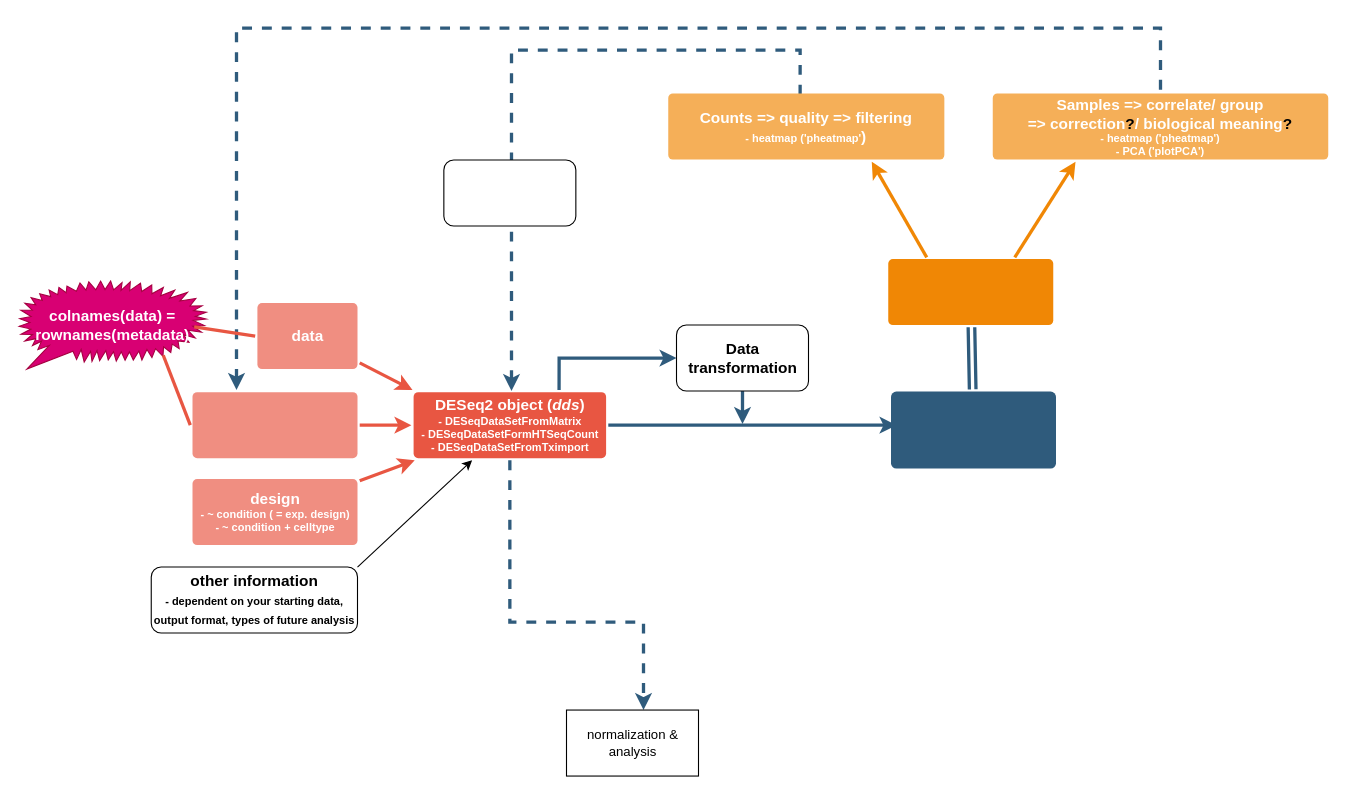
This 1348x795 diagram has some shape labels left out. Each missing label, with the centre of its shape:
Data exploration (QC): the point at 972,429
Filtering (threshold): the point at 509,192
metadata - name rows with sample names ('pheatmap'): the point at 274,425
Plotting: the point at 970,291
